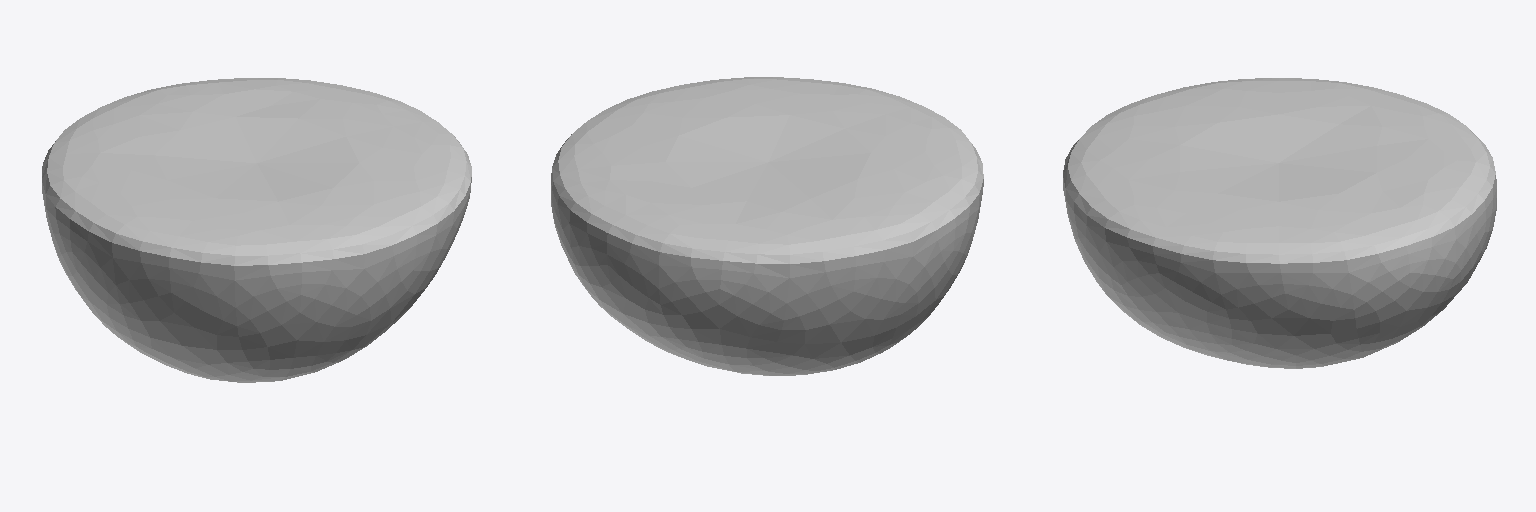
The model's file is main_part.obj.
3 views of the same model, side by side, from view 1: azimuth 30°, elevation 25°; view 2: azimuth 150°, elevation 25°; view 3: azimuth 270°, elevation 25° (orthographic).
Visible parts, largest first — view 1: Icosphere; view 2: Icosphere; view 3: Icosphere.
Boxes of the visible parts, x1=… form: Icosphere: x1=42, y1=78, x2=471, y2=382; Icosphere: x1=551, y1=77, x2=983, y2=375; Icosphere: x1=1063, y1=78, x2=1496, y2=368.
Size of the model in its own units: 3.41 by 1.71 by 3.43.